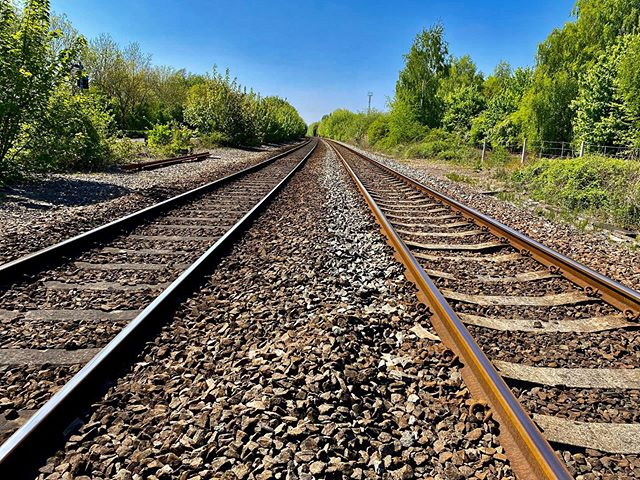sky: (100, 1, 414, 93)
train track: (1, 166, 640, 480)
vegetation: (343, 1, 640, 148), (1, 44, 308, 160)
